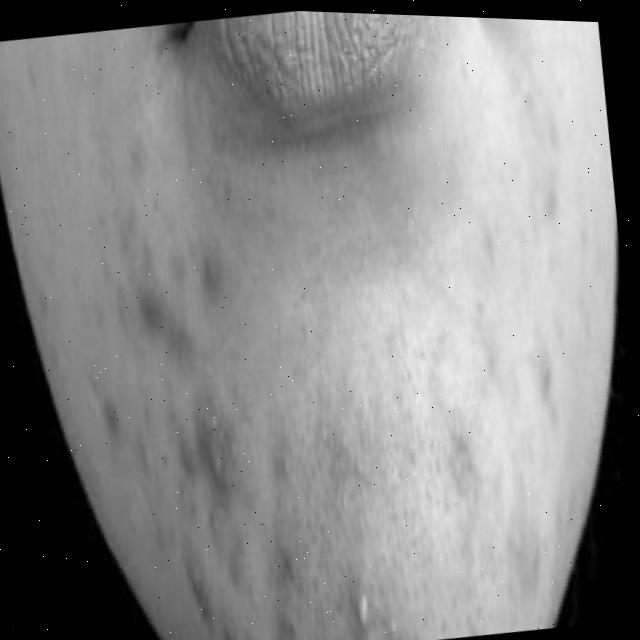Acne: (37, 199, 602, 640)
